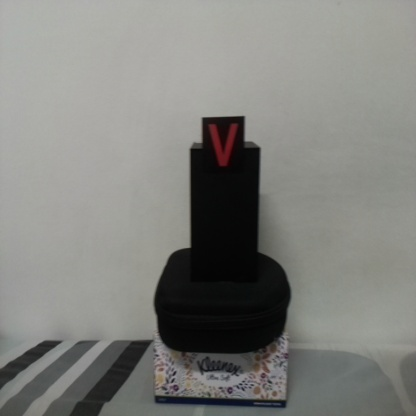id_11: (202, 118, 245, 178)
